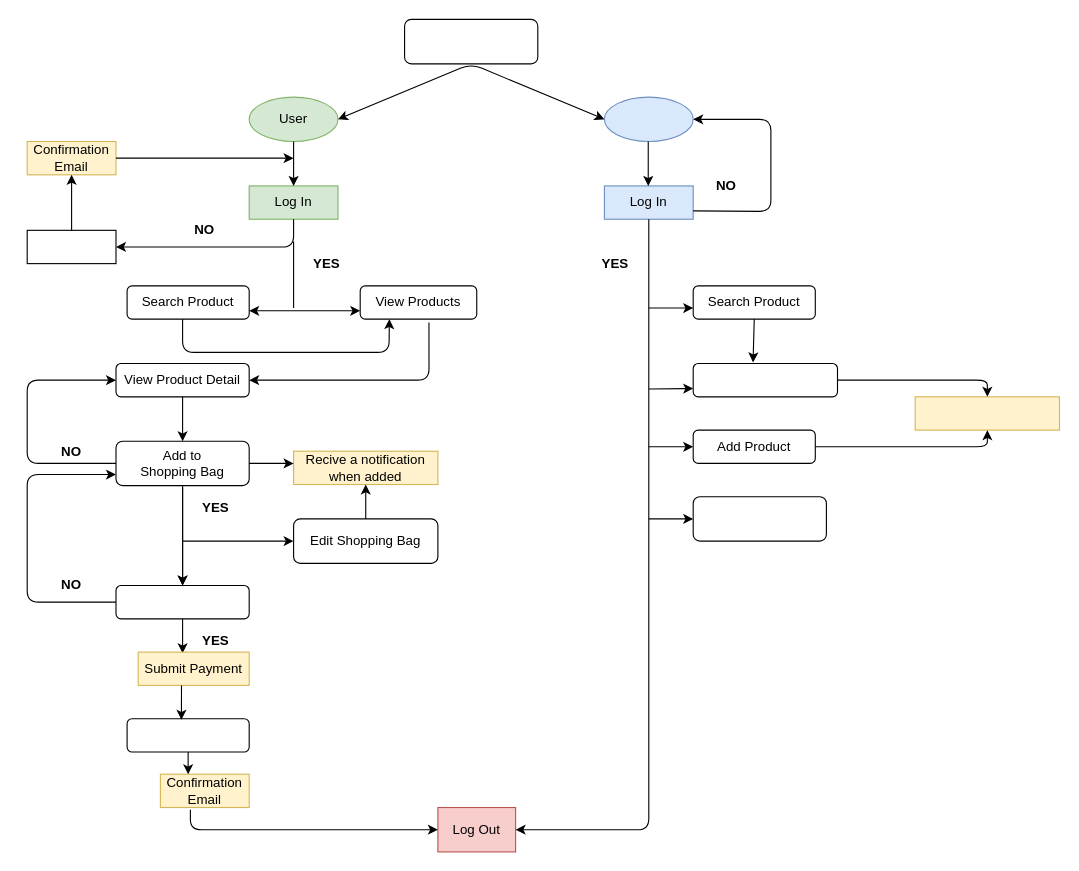
Image size: 1079x871. Some labels were removed from this diagram. The centre of each missing label's shape, as x and y in pixels:
"Admin" goes at (648,119).
"Edit/Delete Product" goes at (764,379).
"Enter website" goes at (470,41).
"Go to Checkout" goes at (182,601).
"Order Placed" goes at (187,735).
"Recive a notification when done" goes at (986,413).
"Register" goes at (71,246).
"View Registered Users and Orders" goes at (759,518).
